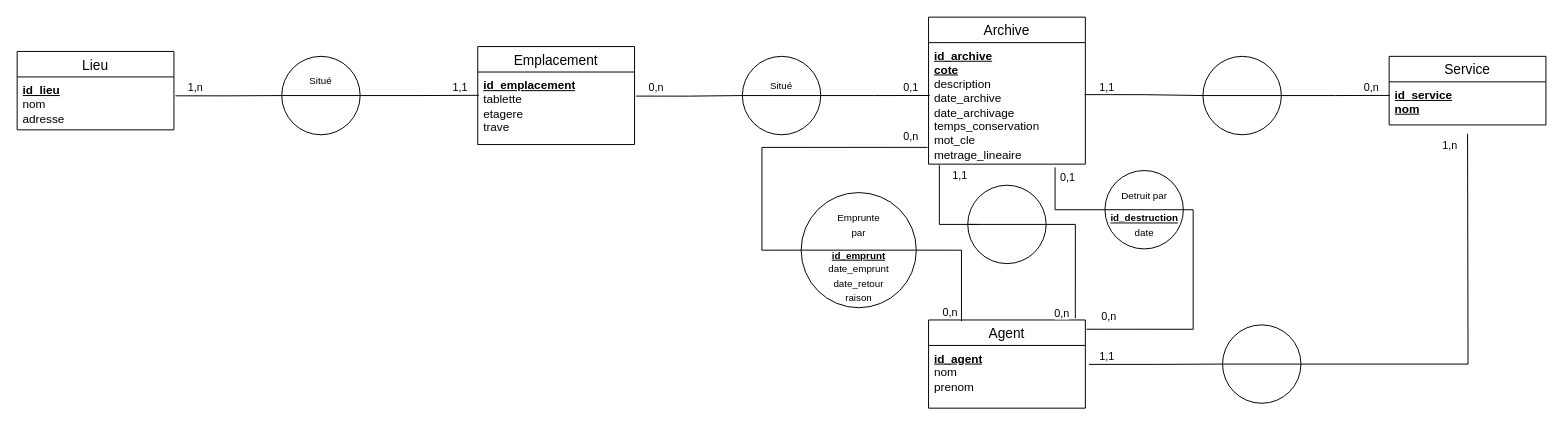
Image size: 1563x428. Some labels were removed from this diagram. Each missing label, with the box of its shape:
Appartient à: (1222, 324, 1301, 403)
Archivé par: (967, 184, 1046, 264)
Provient: (1202, 55, 1281, 135)
